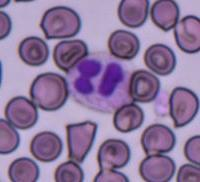N: (66, 52, 132, 112)
